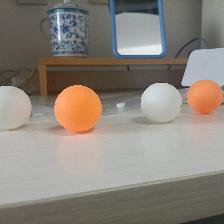WhiteBall: (139, 82, 182, 122), (1, 85, 32, 130)
YellowBall: (53, 85, 101, 131), (186, 79, 222, 113)
